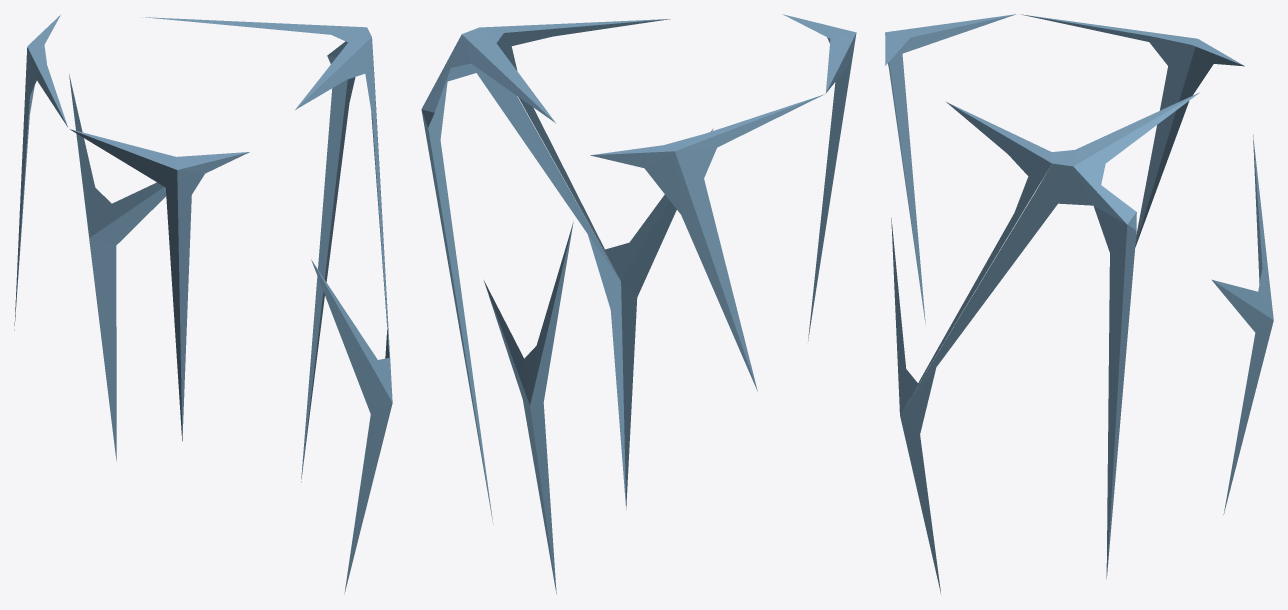
The model's file is Stone_Blue_A_02_Light.FBX.
The picture shows the model from 3 angles, left to right: view 1: azimuth 30°, elevation 25°; view 2: azimuth 150°, elevation 25°; view 3: azimuth 270°, elevation 25°; orthographic projection. The views are drawn at different scales.
Parts seen in each view (by area): view 1: Stone_Blue_A_02_Light; view 2: Stone_Blue_A_02_Light; view 3: Stone_Blue_A_02_Light.
Part boxes in pixels (x1,y1,x2,y2): Stone_Blue_A_02_Light: [14, 15, 392, 594]; Stone_Blue_A_02_Light: [421, 14, 856, 594]; Stone_Blue_A_02_Light: [885, 14, 1273, 594].
Size of the model in its own units: 0.7808 by 1.09 by 0.8133.
